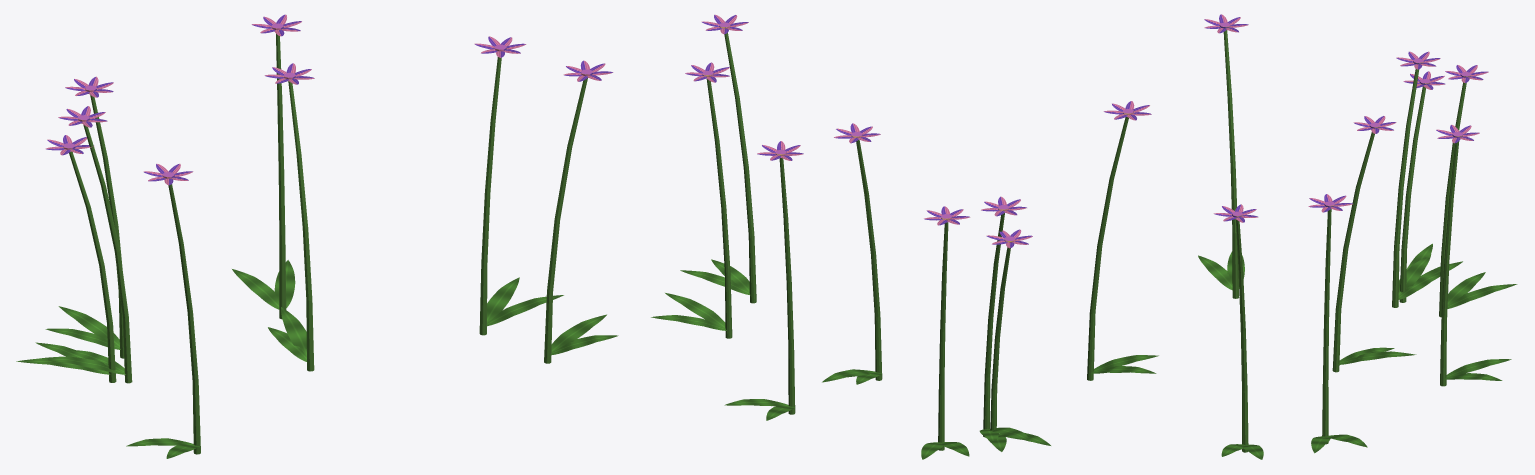
Rendered from meadow_flower_mix_v02.fbx.
3 views of the same model, side by side, from view 1: azimuth 30°, elevation 25°; view 2: azimuth 150°, elevation 25°; view 3: azimuth 270°, elevation 25° (orthographic). The views are drawn at different scales.
Parts seen in each view (by area): view 1: meadow_flower_mix_v02; view 2: meadow_flower_mix_v02; view 3: meadow_flower_mix_v02.
Boxes of the visible parts, left/top/right/bottom form: meadow_flower_mix_v02: left=16, top=14, right=618, bottom=458; meadow_flower_mix_v02: left=651, top=14, right=1158, bottom=459; meadow_flower_mix_v02: left=1198, top=14, right=1517, bottom=459.
Size of the model in its own units: 70.1 by 45.26 by 39.08.
3 materials, 3 textured.
